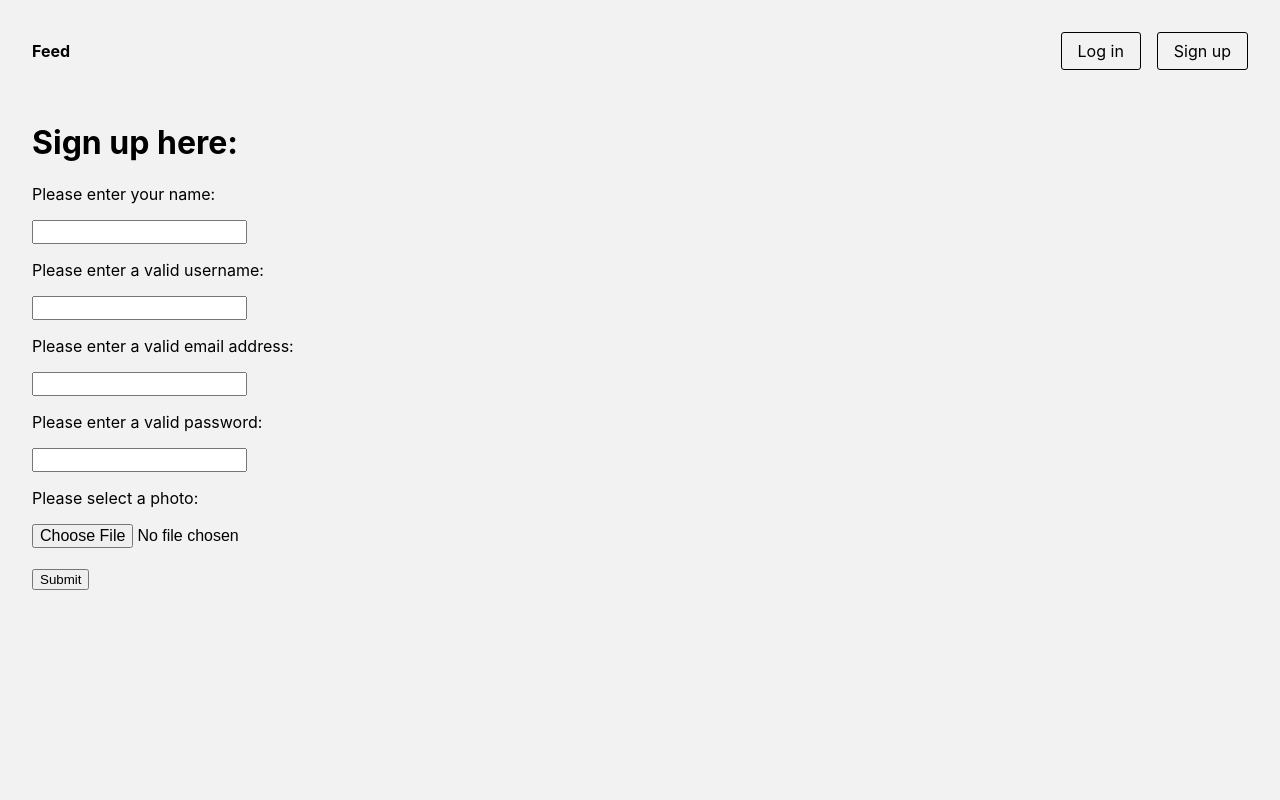
Test: Signup › should display an alert when submitting empty inputs.
Click the button "Submit" at (61, 580), box 32,569 -> 90,590
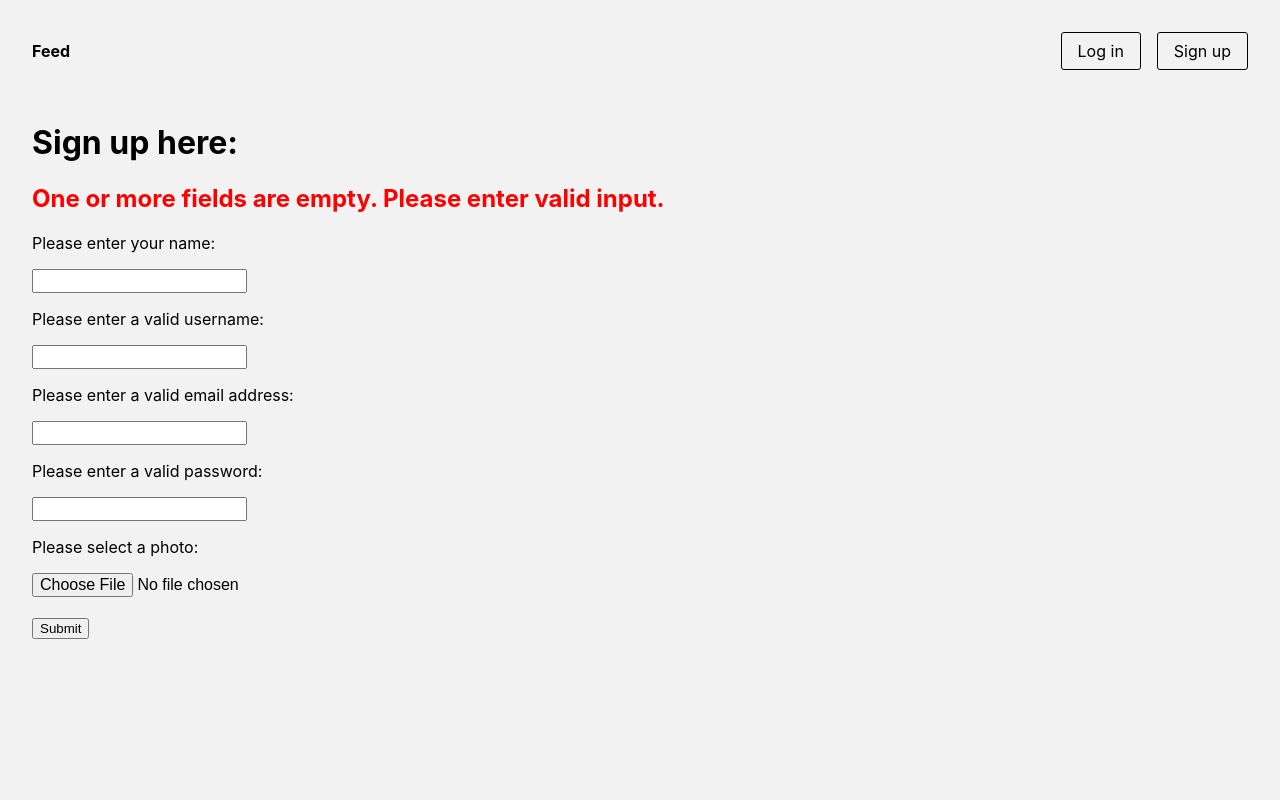
Expected: the heading with test id "error-id" reads "One or more fields are empty. Please enter valid input.", 32,184 -> 665,213
